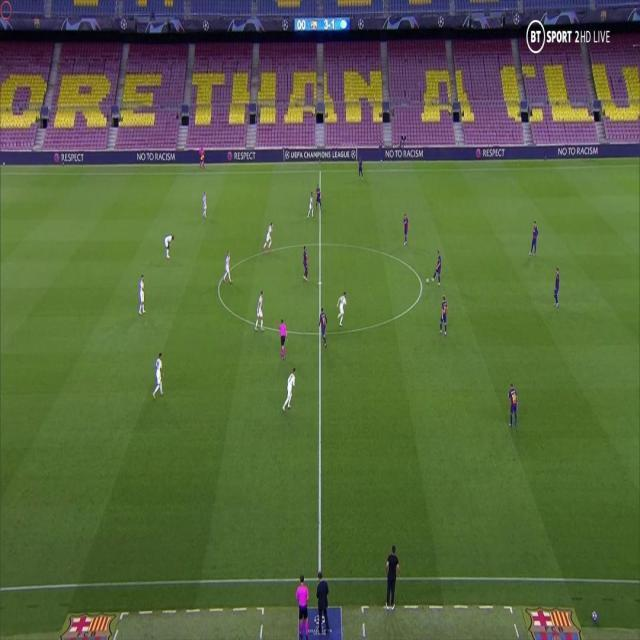player: (280, 366, 299, 412), (150, 348, 166, 402), (507, 380, 519, 432), (253, 289, 266, 333), (551, 266, 563, 311), (335, 291, 349, 327), (438, 294, 450, 336), (431, 247, 443, 288), (163, 230, 176, 263), (319, 306, 329, 348), (529, 220, 540, 258), (399, 212, 410, 247), (264, 221, 276, 253), (138, 273, 147, 315), (302, 242, 311, 283), (222, 250, 233, 283), (199, 188, 210, 220), (314, 182, 322, 213), (357, 154, 364, 184), (307, 191, 314, 221)
referee: (292, 570, 313, 639), (279, 316, 289, 363), (199, 138, 209, 174)
